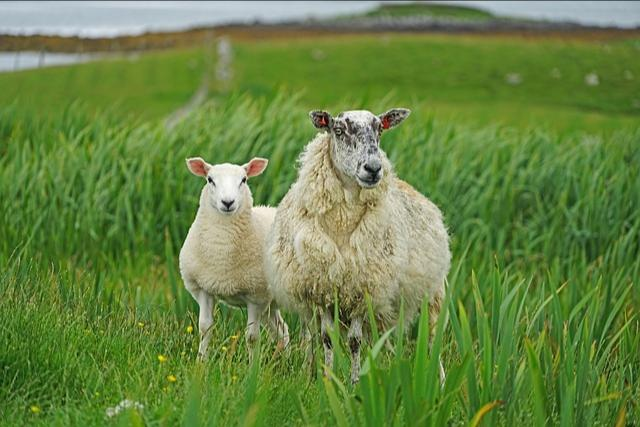Non_Gorille: (146, 76, 504, 370)
